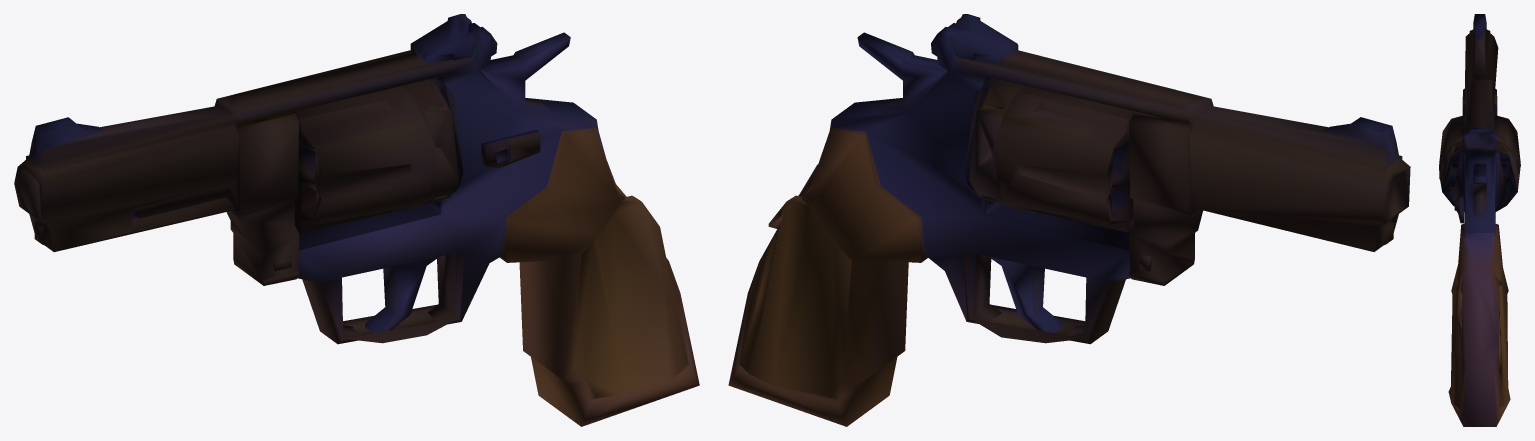
Rendered from model.progressive.glb.
3 renders of one model, left to right at view 1: azimuth 30°, elevation 25°; view 2: azimuth 150°, elevation 25°; view 3: azimuth 270°, elevation 25°, orthographic. The views are drawn at different scales.
Visible parts, largest first — view 1: material; view 2: material; view 3: material.
Boxes of the visible parts, x1,y1,x2,y2 form: material: (14,14,699,426); material: (728,14,1410,426); material: (1439,14,1520,426).
Bounding box in the file's own units: 1.88 × 1.13 × 0.3535.
Materials: 1 (1 with a texture image).
